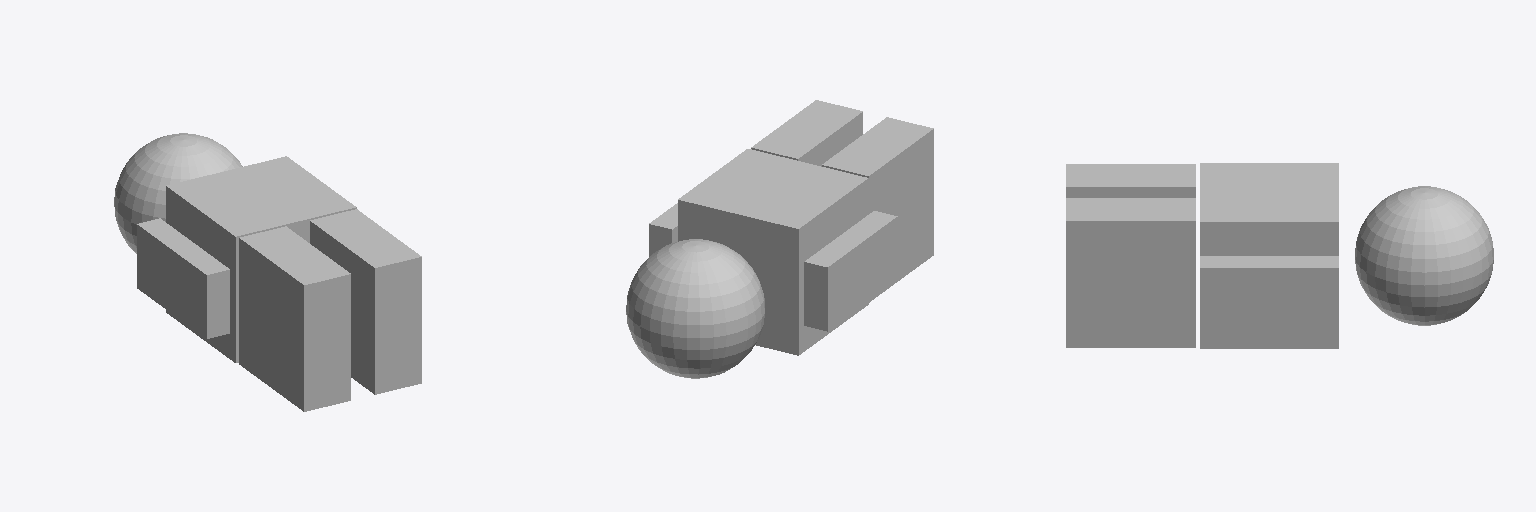
The model's file is sporty_robot_animation_000017.obj.
The picture shows the model from 3 angles: view 1: azimuth 30°, elevation 25°; view 2: azimuth 150°, elevation 25°; view 3: azimuth 270°, elevation 25°; orthographic projection.
Visible parts, largest first — view 1: Cube.002, Cube.001_Cube.005, Cube, Cube.004, Sphere.001; view 2: Cube, Sphere.001, Cube.002, Cube.004, Cube.001_Cube.005, Cube.003; view 3: Cube.001_Cube.005, Cube, Sphere.001, Cube.003, Cube.002.
Part boxes in pixels (bbox=[...]): Cube.002: bbox=[239, 226, 350, 411]; Cube.001_Cube.005: bbox=[310, 209, 421, 394]; Cube: bbox=[166, 156, 356, 362]; Cube.004: bbox=[137, 218, 229, 338]; Sphere.001: bbox=[114, 133, 242, 253]; Cube: bbox=[678, 149, 868, 355]; Sphere.001: bbox=[626, 239, 764, 378]; Cube.002: bbox=[822, 117, 933, 302]; Cube.004: bbox=[804, 211, 897, 331]; Cube.001_Cube.005: bbox=[751, 100, 862, 166]; Cube.003: bbox=[649, 203, 677, 256]; Cube.001_Cube.005: bbox=[1066, 198, 1195, 347]; Cube: bbox=[1200, 163, 1338, 348]; Sphere.001: bbox=[1355, 186, 1493, 325]; Cube.003: bbox=[1200, 256, 1338, 331]; Cube.002: bbox=[1066, 164, 1195, 197].
Size of the model in its own units: 0.76 by 0.514 by 1.58.